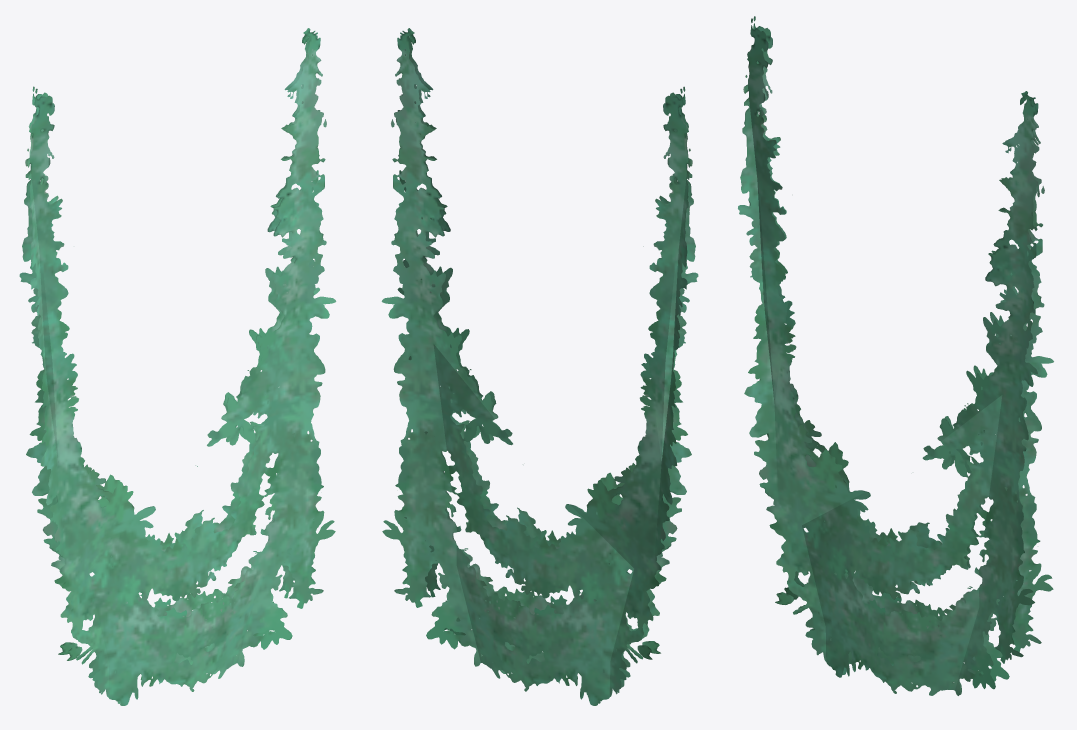
The model's file is SM_ENV_plant_ancient_18_02.fbx.
3 views of the same model, side by side, from view 1: azimuth 30°, elevation 25°; view 2: azimuth 150°, elevation 25°; view 3: azimuth 330°, elevation 25° (orthographic).
Parts seen in each view (by area): view 1: SM_ENV_plant_ancient_18_02_LOD0; view 2: SM_ENV_plant_ancient_18_02_LOD0; view 3: SM_ENV_plant_ancient_18_02_LOD0.
Part boxes in pixels (left/top/right/bottom): SM_ENV_plant_ancient_18_02_LOD0: left=19, top=28, right=336, bottom=705; SM_ENV_plant_ancient_18_02_LOD0: left=381, top=28, right=698, bottom=705; SM_ENV_plant_ancient_18_02_LOD0: left=738, top=16, right=1053, bottom=695.
Bounding box in the file's own units: 83.32 × 166 × 10.8.
